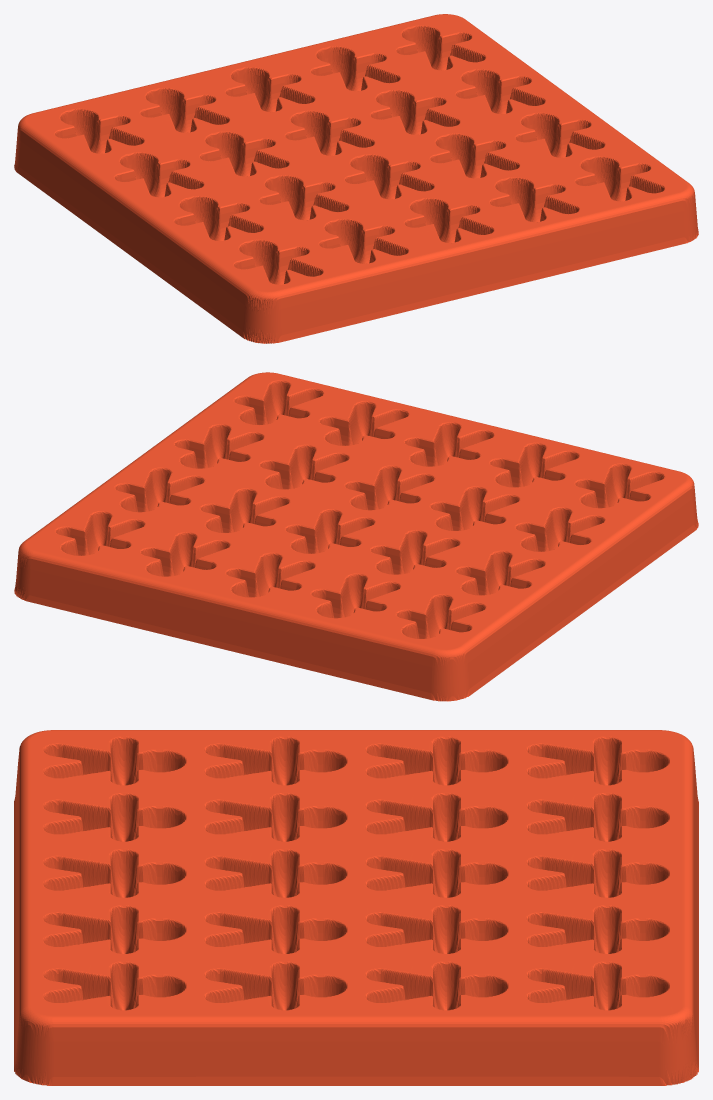
The model's file is mold.glb.
3 renders of one model, top to bottom at view 1: azimuth 30°, elevation 25°; view 2: azimuth 150°, elevation 25°; view 3: azimuth 270°, elevation 25°, orthographic. The views are drawn at different scales.
Parts seen in each view (by area): view 1: geometry_0; view 2: geometry_0; view 3: geometry_0.
Part boxes in pixels (x1,y1,x2,y2): geometry_0: (14, 14, 698, 343); geometry_0: (14, 372, 698, 701); geometry_0: (14, 730, 698, 1085).
Bounding box in the file's own units: 0.1611 × 0.0159 × 0.1563.
